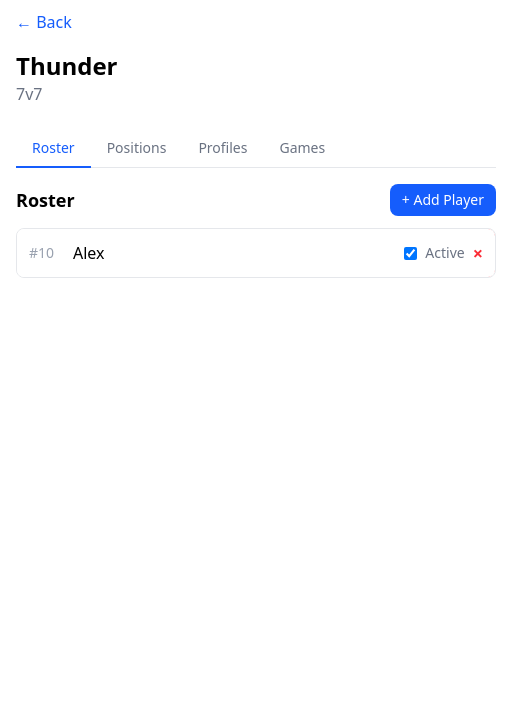
TeamDetail › roster tab delete › undo restores the deleted player
This screenshot has width=513, height=714.
Expected: the text "Alex" is shown, [73, 241, 104, 265]
Click the button named "delete alex" at (478, 253), box [473, 244, 483, 262]
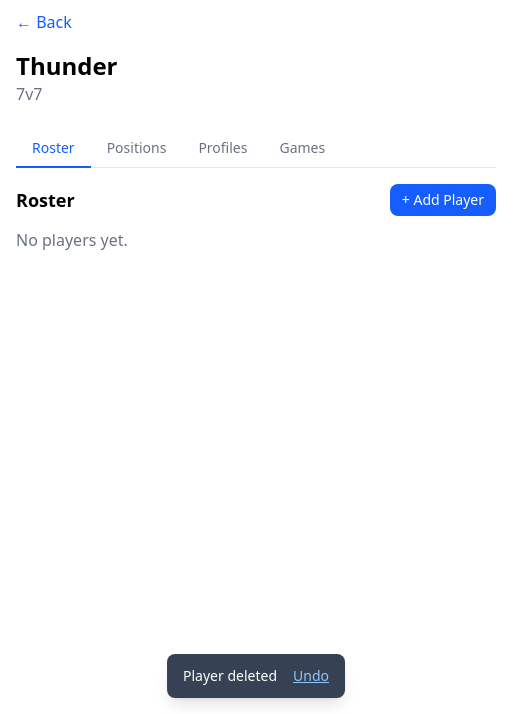
Result: the text "Player deleted" is shown at [183, 666, 277, 686]
Click the button "Undo" at (311, 676), box [293, 666, 329, 686]
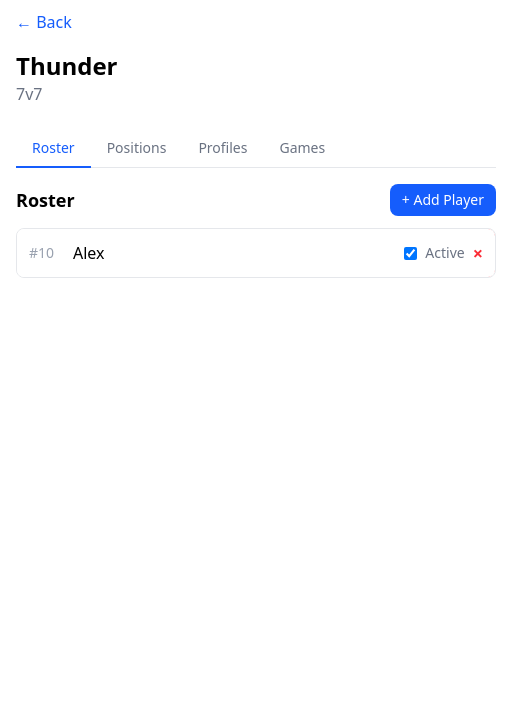
Result: the text "Alex" is shown at [73, 241, 104, 265]
